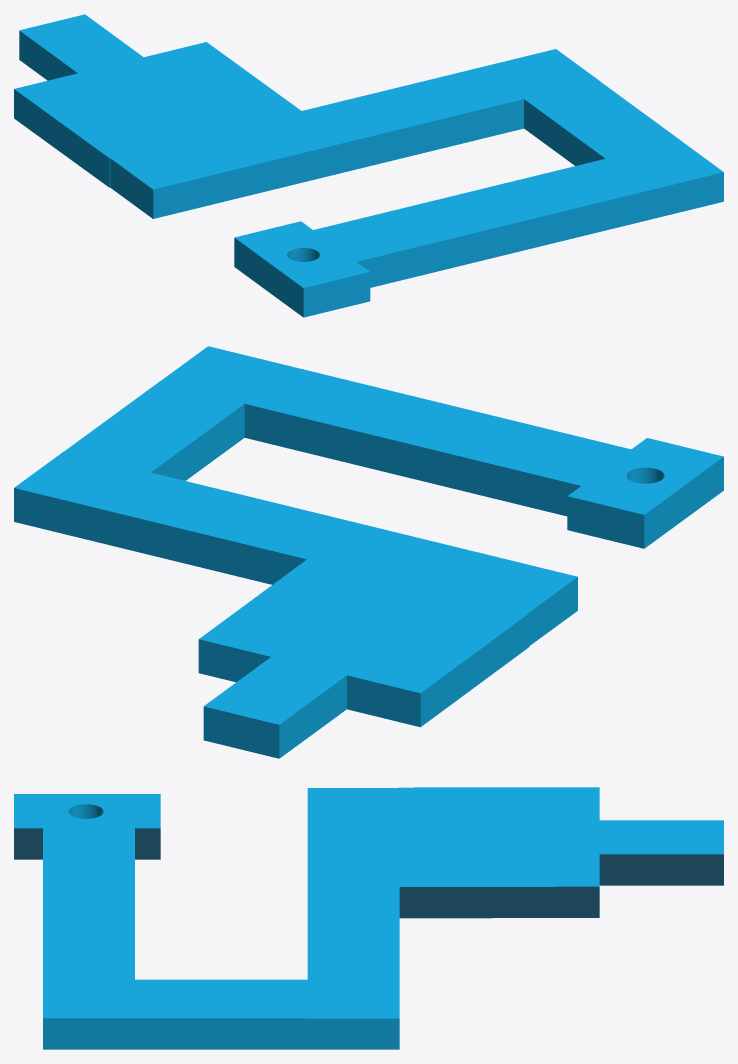
File: monde_tuto.fbx
3 views of the same model, one above another, from view 1: azimuth 30°, elevation 25°; view 2: azimuth 150°, elevation 25°; view 3: azimuth 270°, elevation 25° (orthographic). The views are drawn at different scales.
Visible parts, largest first — view 1: Cube_2, Cube_4, Cube_1, Cube_5, Cube_3, Cube; view 2: Cube_2, Cube_4, Cube_1, Cube_3, Cube_5, Cube; view 3: Cube_1, Cube_2, Cube_4, Cube_3, Cube, Cube_5, Cylindre.
Boxes of the visible parts, left/top/right/bottom form: Cube_2: left=110, top=49, right=597, bottom=218; Cube_4: left=313, top=140, right=723, bottom=287; Cube_1: left=14, top=42, right=301, bottom=187; Cube_5: left=234, top=221, right=370, bottom=317; Cube_3: left=524, top=78, right=680, bottom=165; Cube: left=19, top=14, right=143, bottom=80; Cube_2: left=14, top=451, right=577, bottom=645; Cube_4: left=158, top=346, right=630, bottom=516; Cube_1: left=198, top=559, right=529, bottom=727; Cube_3: left=61, top=382, right=245, bottom=480; Cube_5: left=567, top=438, right=723, bottom=548; Cube: left=203, top=656, right=347, bottom=758; Cube_1: left=398, top=787, right=599, bottom=918; Cube_2: left=307, top=788, right=399, bottom=1049; Cube_4: left=43, top=827, right=134, bottom=1049; Cube_3: left=130, top=979, right=314, bottom=1049; Cube: left=597, top=820, right=723, bottom=885; Cube_5: left=14, top=794, right=160, bottom=859; Cylindre: left=68, top=804, right=103, bottom=818.
Bounding box in the file's own units: 476 × 30 × 618.
